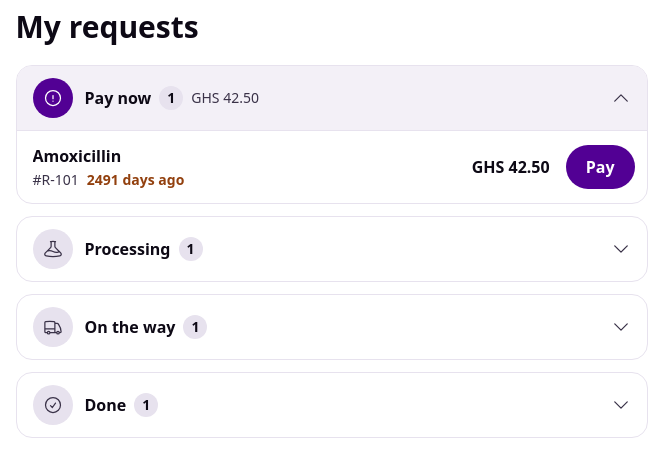
Test: Requests list: rows › says "Waiting for a price" rather than a vague label when a request has no price yet
This screenshot has width=665, height=455.
What coordinates should you click on to do the following:
click the button "Processing 1"
I would click on:
 (52, 249)
Its box is [16, 217, 646, 281].
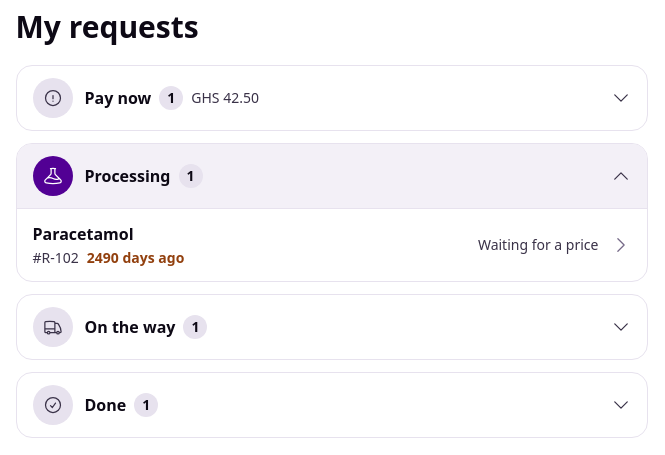
expect the text "Waiting for a price" is shown: met, box [478, 235, 598, 255]
